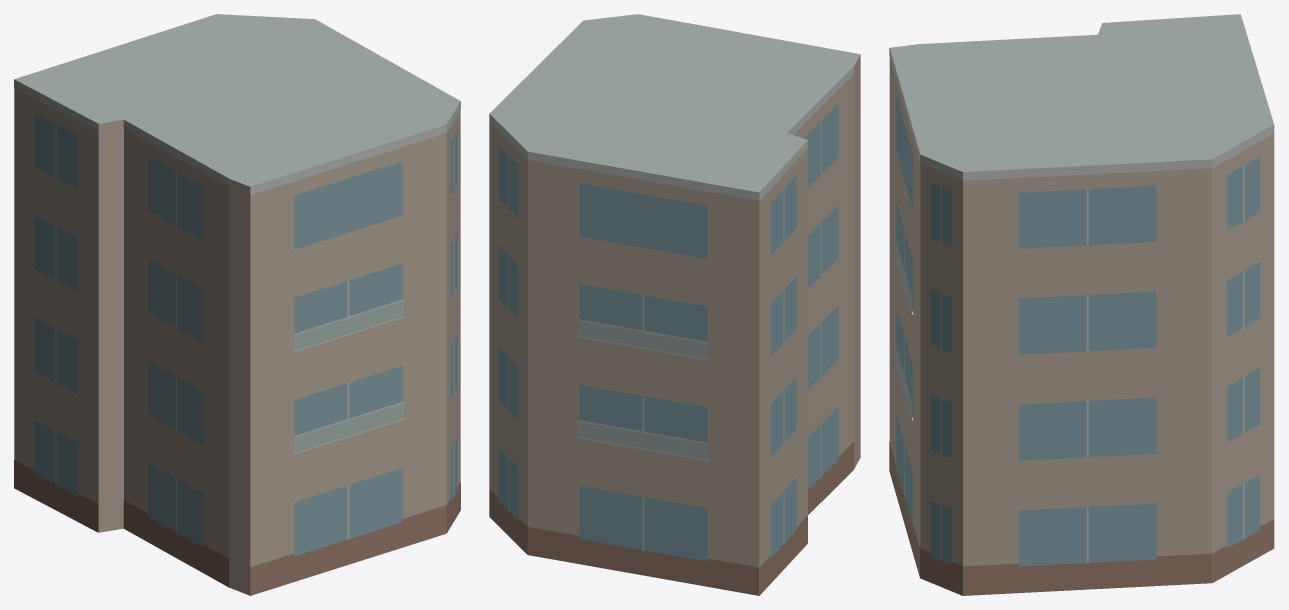
The model's file is survey-upis-33013723.glb.
The picture shows the model from 3 angles, left to right: view 1: azimuth 30°, elevation 25°; view 2: azimuth 150°, elevation 25°; view 3: azimuth 270°, elevation 25°; orthographic projection. The views are drawn at different scales.
Parts seen in each view (by area): view 1: survey-upis-33013723.tmp; view 2: survey-upis-33013723.tmp; view 3: survey-upis-33013723.tmp.
Boxes of the visible parts, box(x1,y1,x2,y2) form: survey-upis-33013723.tmp: box(14, 14, 460, 595); survey-upis-33013723.tmp: box(489, 14, 860, 595); survey-upis-33013723.tmp: box(889, 14, 1274, 595).
Size of the model in its own units: 9.41 by 11.75 by 9.68.
